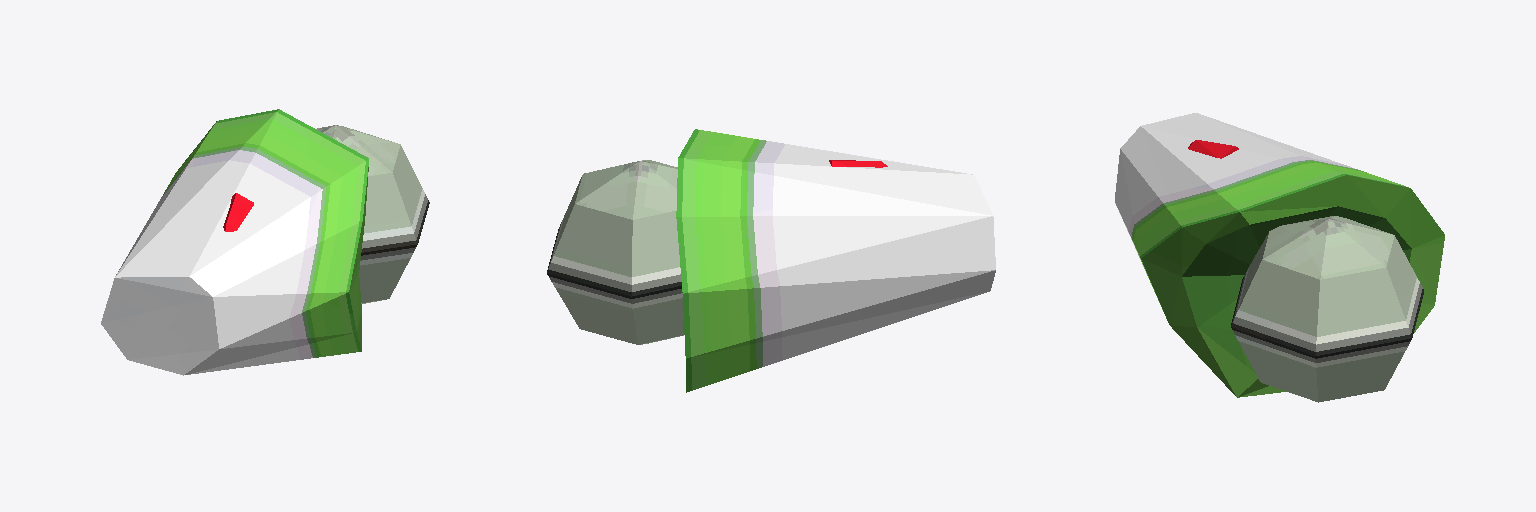
3 renders of one model, left to right at view 1: azimuth 30°, elevation 25°; view 2: azimuth 150°, elevation 25°; view 3: azimuth 270°, elevation 25°, orthographic.
Parts seen in each view (by area): view 1: buzzlightyRightForearm_buzzlighty.016; view 2: buzzlightyRightForearm_buzzlighty.016; view 3: buzzlightyRightForearm_buzzlighty.016.
Boxes of the visible parts, box(x1,y1,x2,y2) form: buzzlightyRightForearm_buzzlighty.016: box(101, 109, 429, 375); buzzlightyRightForearm_buzzlighty.016: box(547, 129, 995, 392); buzzlightyRightForearm_buzzlighty.016: box(1115, 113, 1444, 402).
Size of the model in its own units: 0.1712 by 0.0927 by 0.1279.
1 materials, 1 textured.